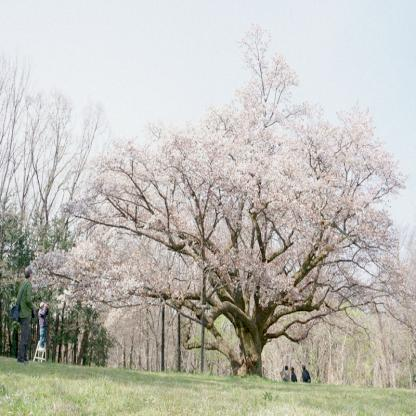Someiyoshino: (33, 27, 414, 311)
